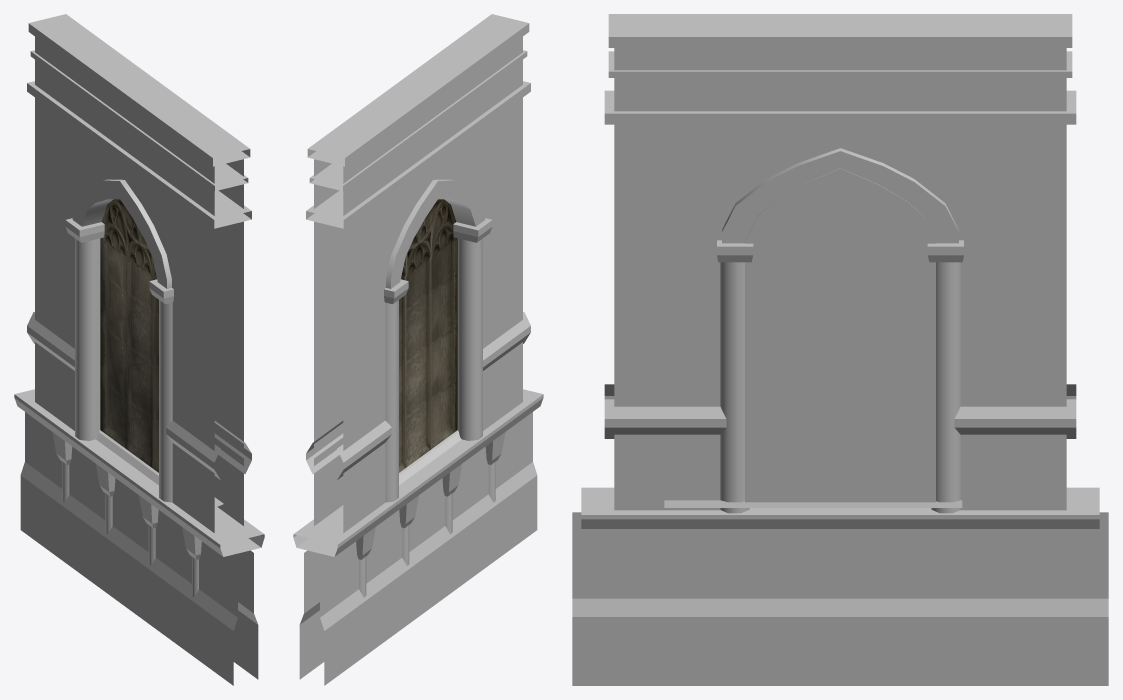
The model's file is da_2_wall_09.FBX.
3 views of the same model, side by side, from view 1: azimuth 30°, elevation 25°; view 2: azimuth 150°, elevation 25°; view 3: azimuth 270°, elevation 25° (orthographic). The views are drawn at different scales.
Visible parts, largest first — view 1: da_2_wall_09; view 2: da_2_wall_09; view 3: da_2_wall_09, da_2_wall_09_glass.
Boxes of the visible parts, x1,y1,x2,y2 form: da_2_wall_09: (14,14,264,685); da_2_wall_09: (293,14,543,685); da_2_wall_09: (572,14,1108,685); da_2_wall_09_glass: (745,168,935,502).
Bounding box in the file's own units: 70.86 × 591 × 440.
